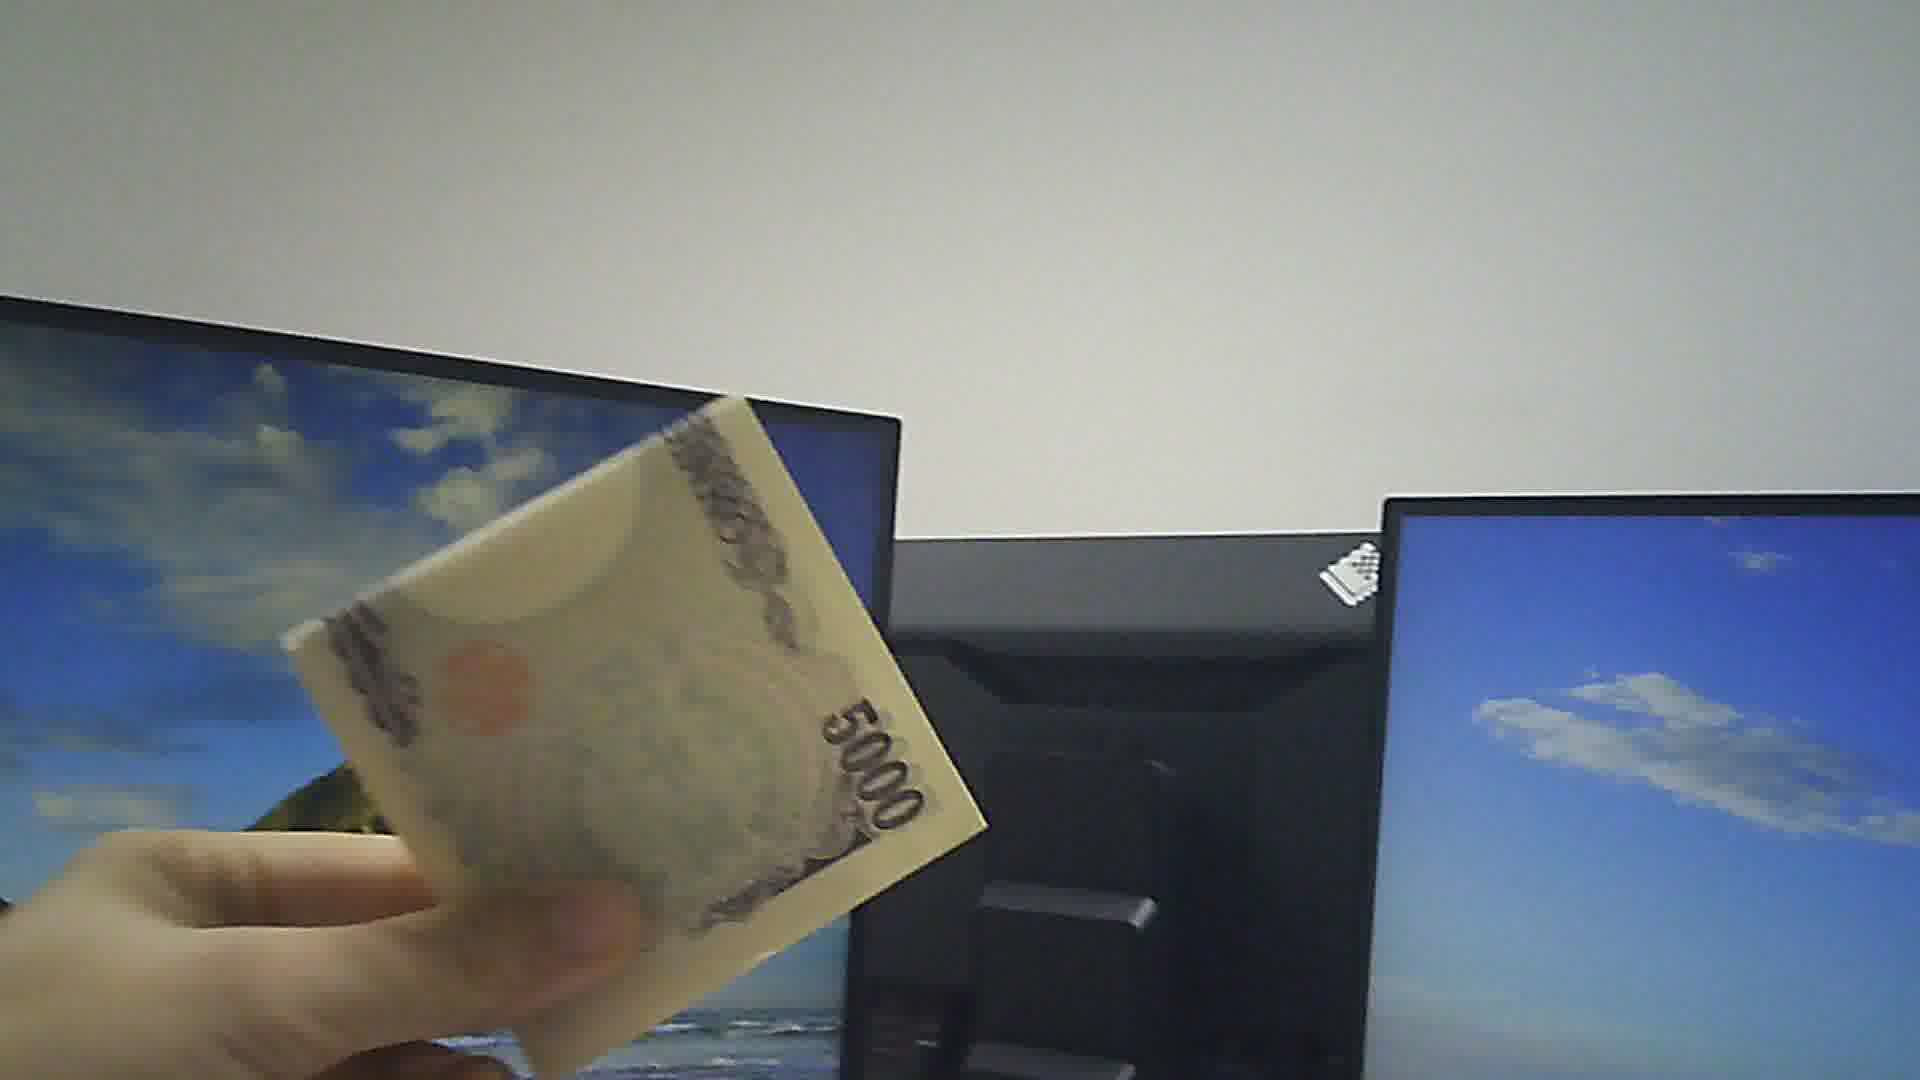5,000 Yen: (289, 364, 986, 1052)
